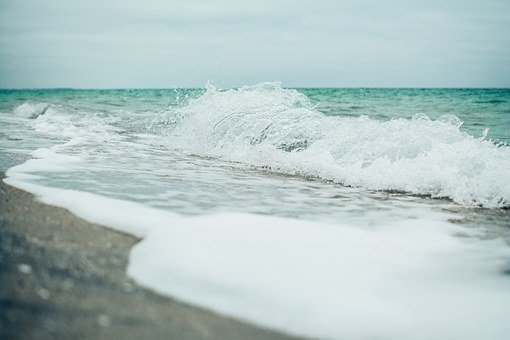beach: (2, 5, 508, 340)
